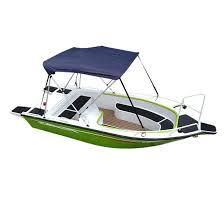fishing boat: (7, 45, 222, 151)
